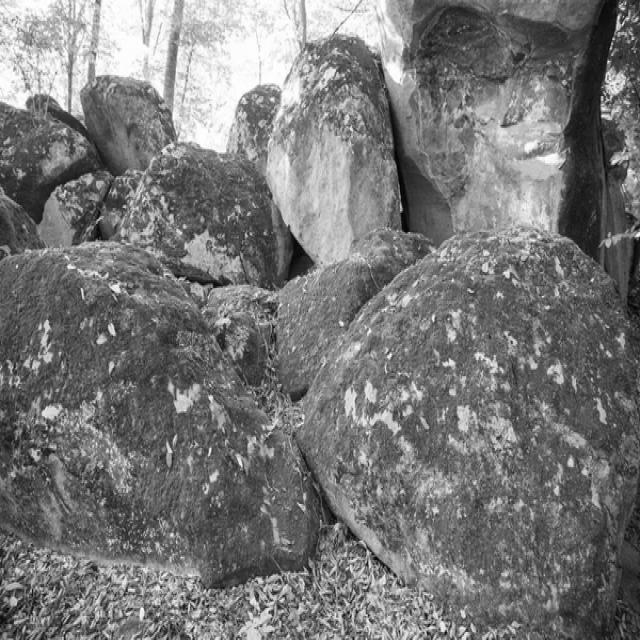Stone: (299, 227, 640, 638), (0, 243, 319, 587), (378, 0, 618, 260), (267, 37, 403, 265), (278, 229, 432, 401), (120, 142, 291, 288), (0, 100, 100, 221), (80, 75, 176, 175), (203, 284, 278, 386), (37, 171, 113, 247), (227, 83, 282, 175), (1, 190, 44, 258)
